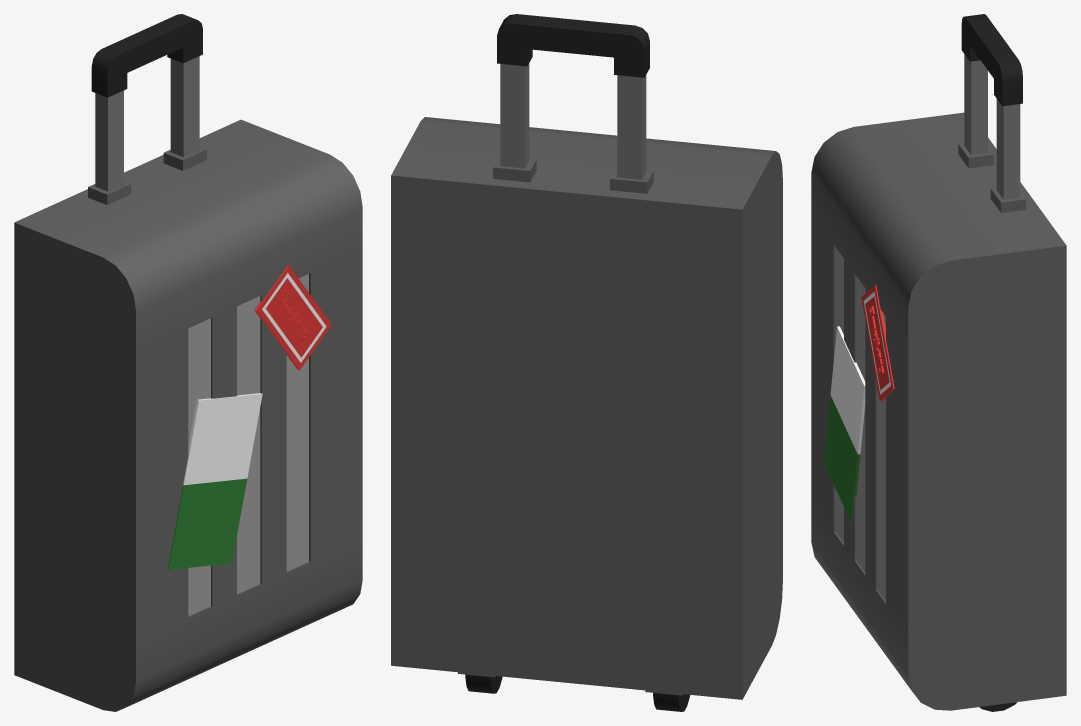
The model's file is luggage.fbx.
3 renders of one model, left to right at view 1: azimuth 30°, elevation 25°; view 2: azimuth 150°, elevation 25°; view 3: azimuth 270°, elevation 25°, orthographic. The views are drawn at different scales.
Parts seen in each view (by area): view 1: Cube.6102; view 2: Cube.6102; view 3: Cube.6102.
Boxes of the visible parts, x1,y1,x2,y2 form: Cube.6102: [14, 14, 362, 711]; Cube.6102: [391, 14, 782, 711]; Cube.6102: [811, 14, 1066, 711].
Size of the model in its own units: 121 by 231 by 84.9.
Materials: 1 (1 with a texture image).
